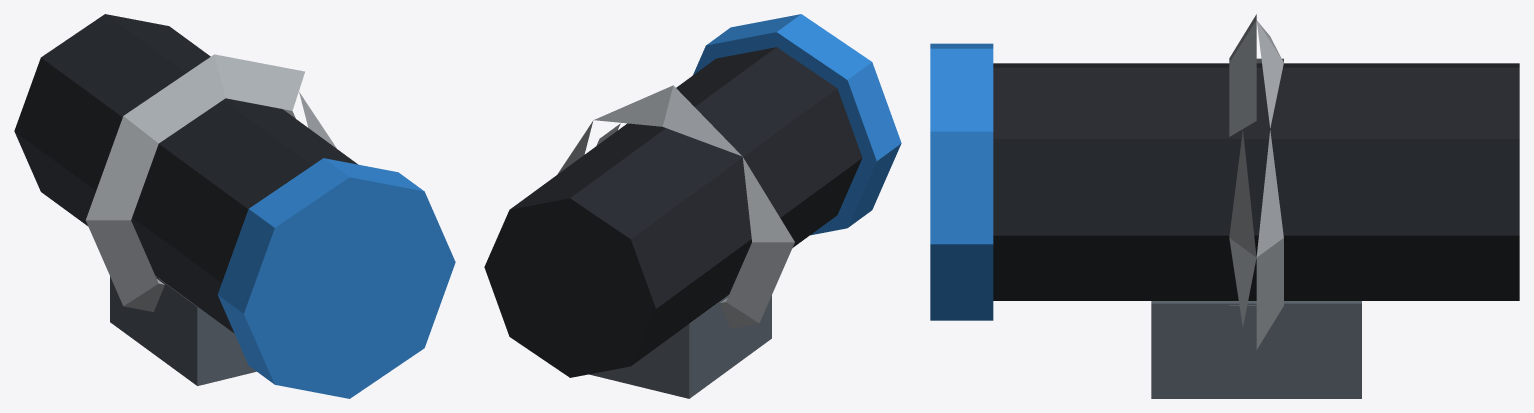
The model's file is collimator-electrifying.lod.glb.
3 renders of one model, left to right at view 1: azimuth 30°, elevation 25°; view 2: azimuth 150°, elevation 25°; view 3: azimuth 270°, elevation 25°, orthographic. The views are drawn at different scales.
Parts seen in each view (by area): view 1: m; view 2: m; view 3: m.
Boxes of the visible parts, left/top/right/bottom form: m: left=14, top=14, right=455, bottom=398; m: left=484, top=14, right=901, bottom=398; m: left=930, top=14, right=1519, bottom=398.
Size of the model in its own units: 0.0364 by 0.0386 by 0.06.
